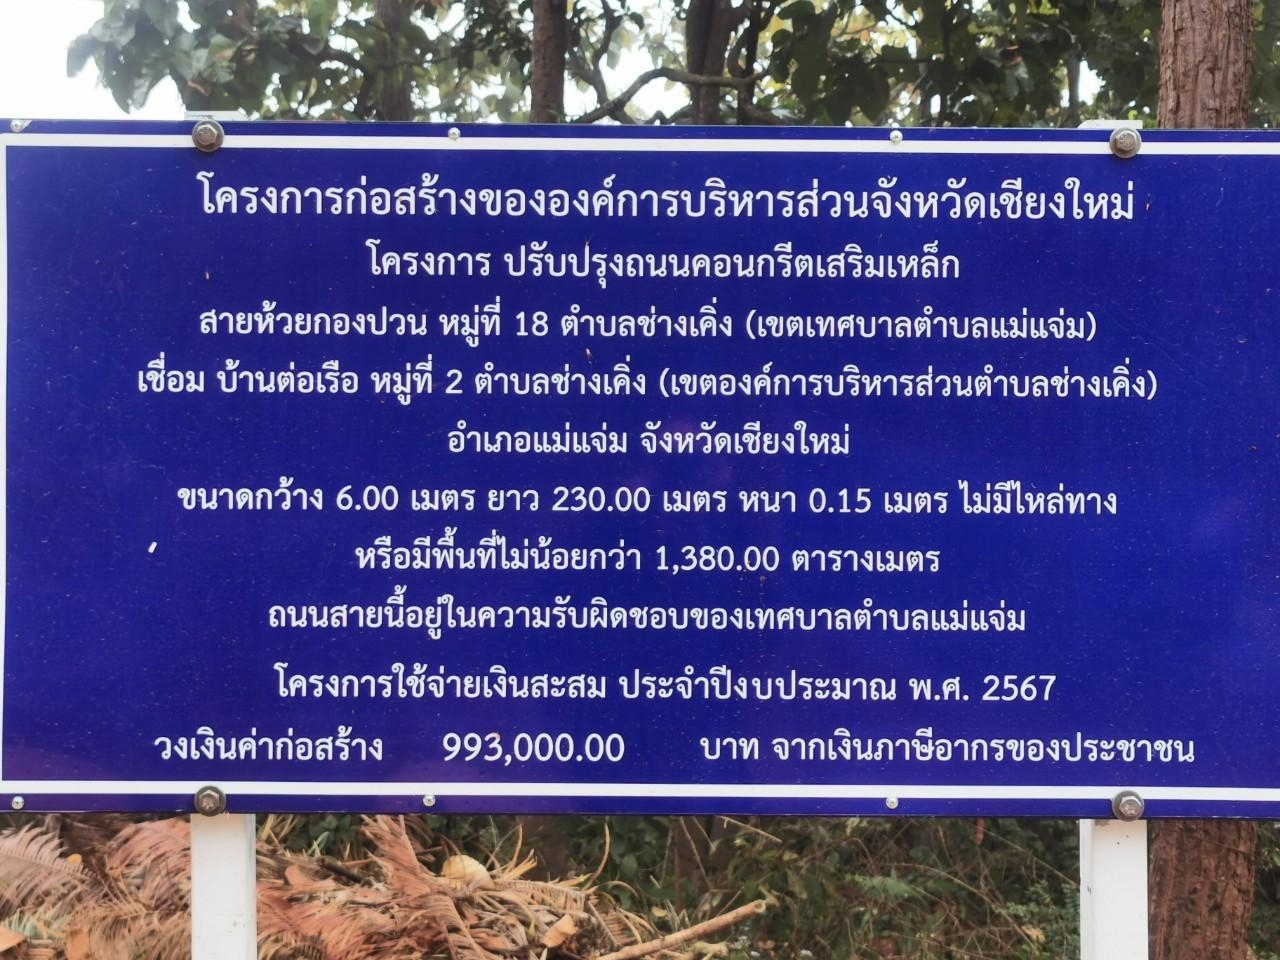text: (131, 347, 1163, 410), (191, 165, 1139, 227), (194, 295, 1101, 347), (171, 474, 1121, 519), (269, 657, 1061, 707), (362, 234, 963, 287), (264, 594, 1029, 635), (350, 535, 943, 577), (692, 726, 1198, 766), (443, 415, 854, 459), (151, 724, 387, 765), (435, 723, 629, 770)
